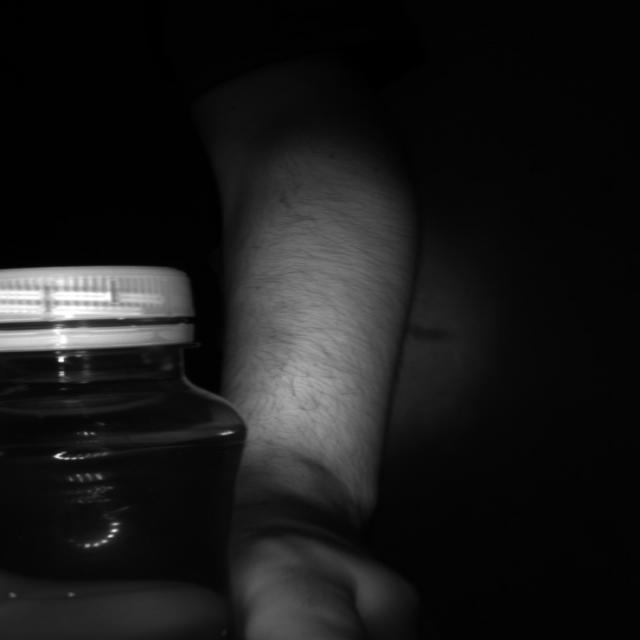Not Good: (0, 262, 193, 351)
